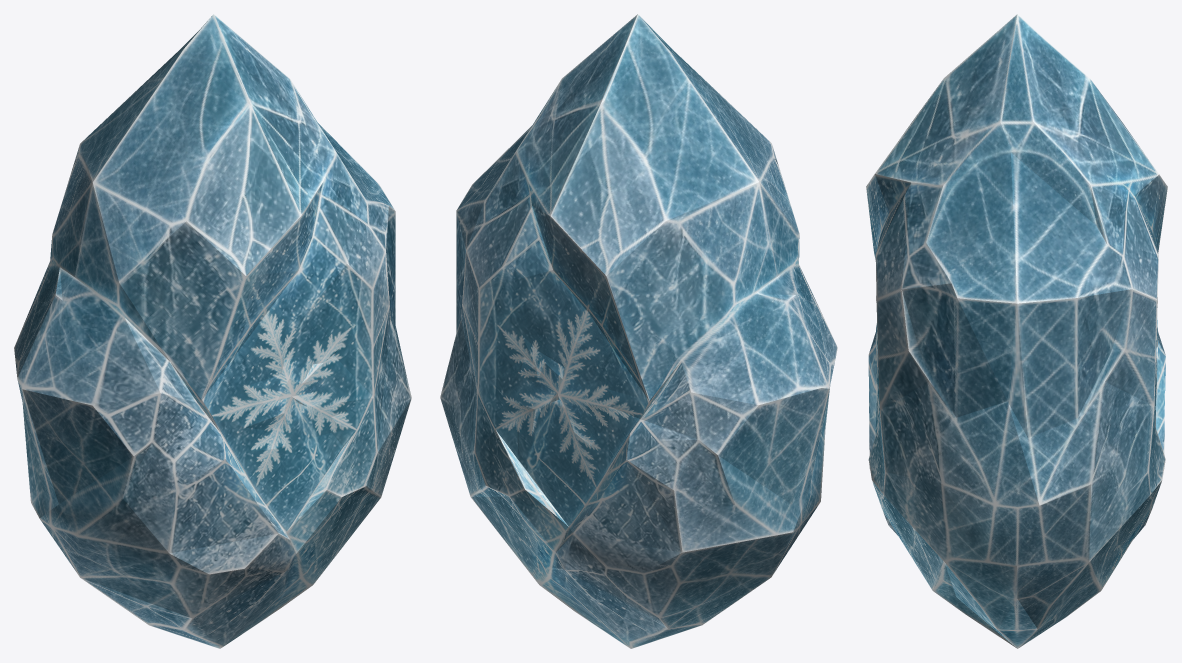
File: SM_ElementGem_Ice.fbx
3 renders of one model, left to right at view 1: azimuth 30°, elevation 25°; view 2: azimuth 150°, elevation 25°; view 3: azimuth 270°, elevation 25°, orthographic.
Parts seen in each view (by area): view 1: output_unwrapped; view 2: output_unwrapped; view 3: output_unwrapped.
Part boxes in pixels (x1,y1,x2,y2): output_unwrapped: (14, 14, 411, 648); output_unwrapped: (440, 14, 837, 648); output_unwrapped: (866, 14, 1167, 648).
Size of the model in its own units: 117 by 190 by 82.25.
Materials: 1 (1 with a texture image).
